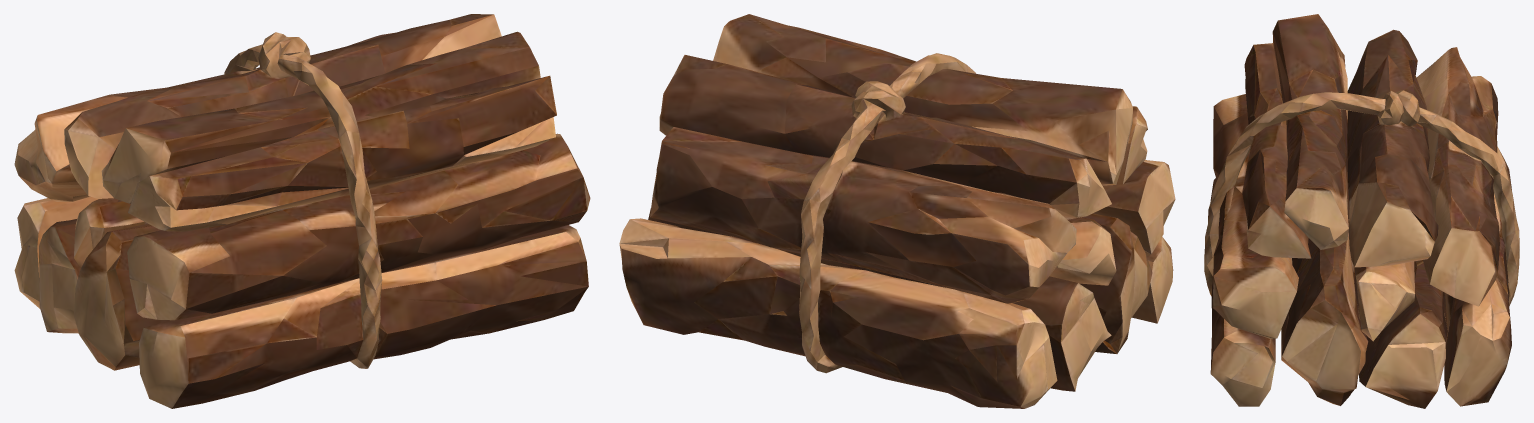
Rendered from firewood.glb.
3 renders of one model, left to right at view 1: azimuth 30°, elevation 25°; view 2: azimuth 150°, elevation 25°; view 3: azimuth 270°, elevation 25°, orthographic. The views are drawn at different scales.
Size of the model in its own units: 1.9 by 1.04 by 1.27.
Materials: 1 (1 with a texture image).
